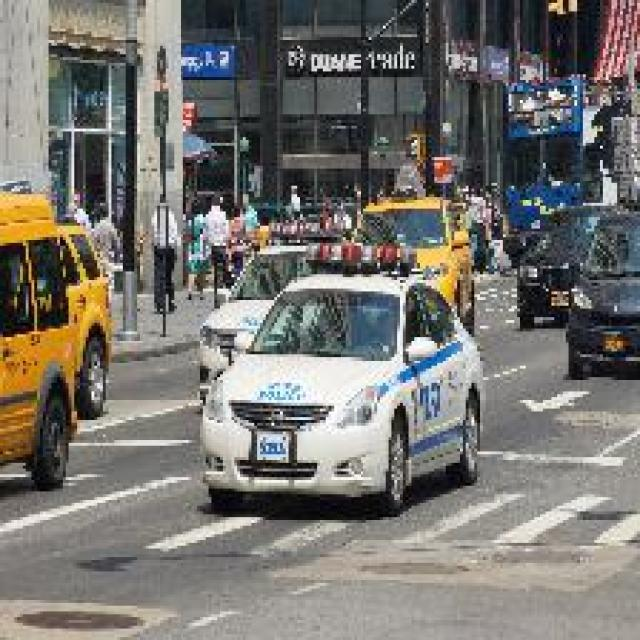emergency: (198, 268, 487, 516), (194, 212, 396, 410)
